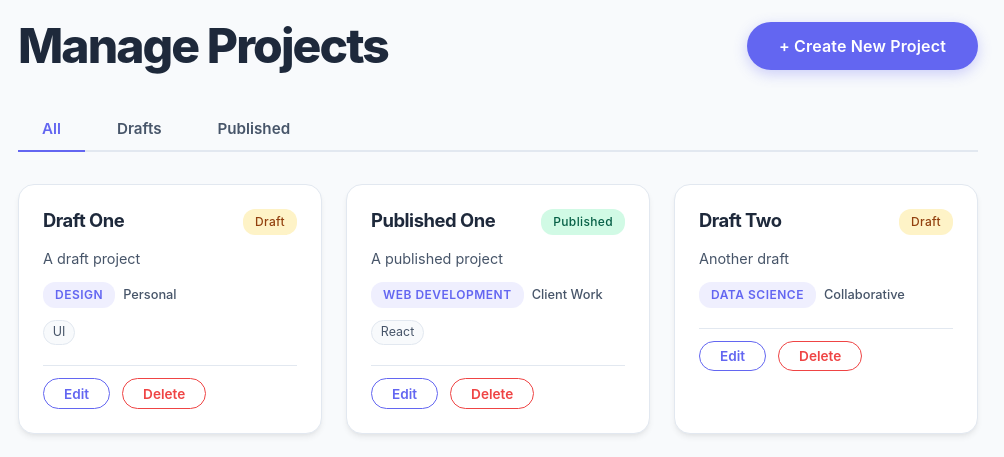
Test: ProjectsManager › Filter tabs › shows only published when Published tab is clicked
The image size is (1004, 457).
Step 1. Click the tab "Published" → (254, 129), box [194,107,314,152]
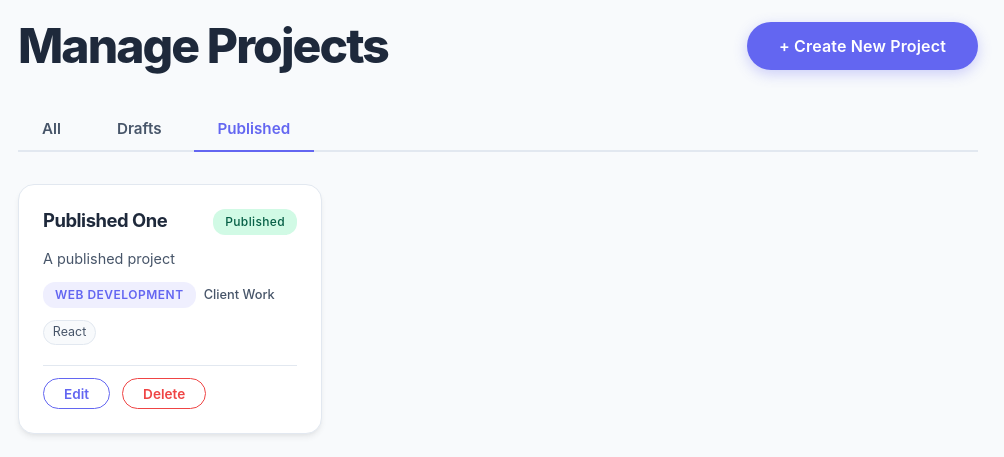
expect the heading "Published One" is shown: met, box [43,209,167,232]
expect the heading "Draft One" is gone: met
expect the heading "Draft Two" is gone: met
